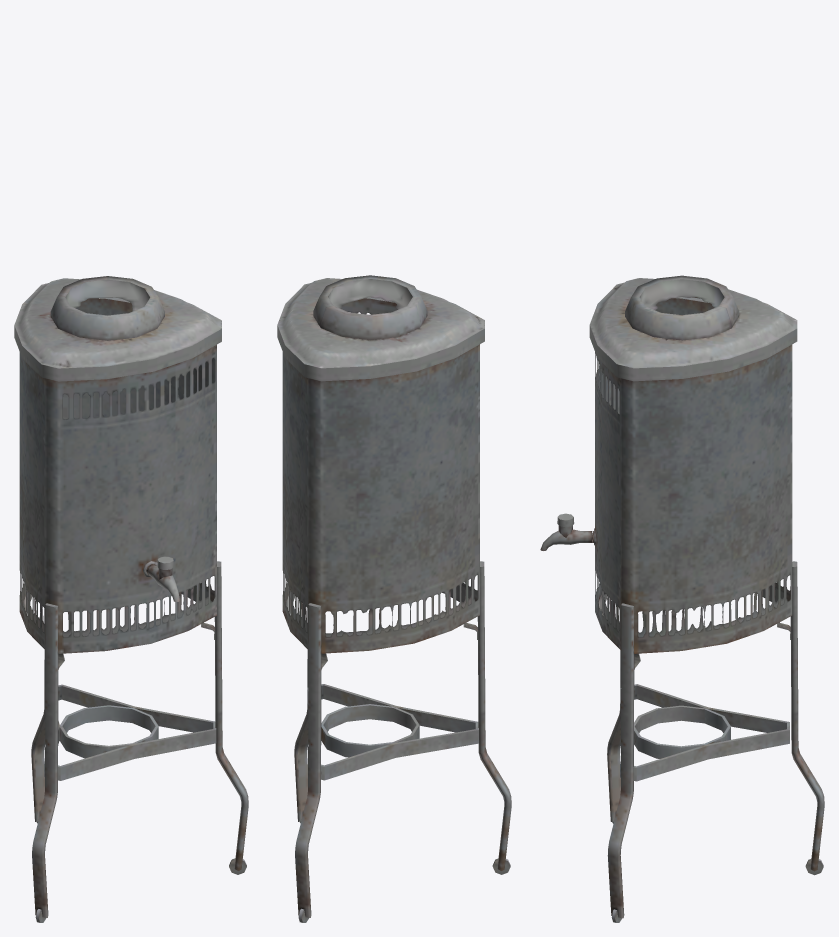
Rendered from 006_waterserver.fbx.
The picture shows the model from 3 angles, left to right: view 1: azimuth 30°, elevation 25°; view 2: azimuth 150°, elevation 25°; view 3: azimuth 270°, elevation 25°; orthographic projection.
Visible parts, largest first — view 1: LOD_1_Group_3_Sub_1__sm31_006_WaterServer01A_A_Mat; view 2: LOD_1_Group_3_Sub_1__sm31_006_WaterServer01A_A_Mat; view 3: LOD_1_Group_3_Sub_1__sm31_006_WaterServer01A_A_Mat.
Boxes of the visible parts, left/top/right/bottom form: LOD_1_Group_3_Sub_1__sm31_006_WaterServer01A_A_Mat: left=14, top=276, right=248, bottom=917; LOD_1_Group_3_Sub_1__sm31_006_WaterServer01A_A_Mat: left=277, top=275, right=511, bottom=917; LOD_1_Group_3_Sub_1__sm31_006_WaterServer01A_A_Mat: left=540, top=275, right=824, bottom=918.
Bounding box in the file's own units: 0.3982 × 1.45 × 0.4514.
